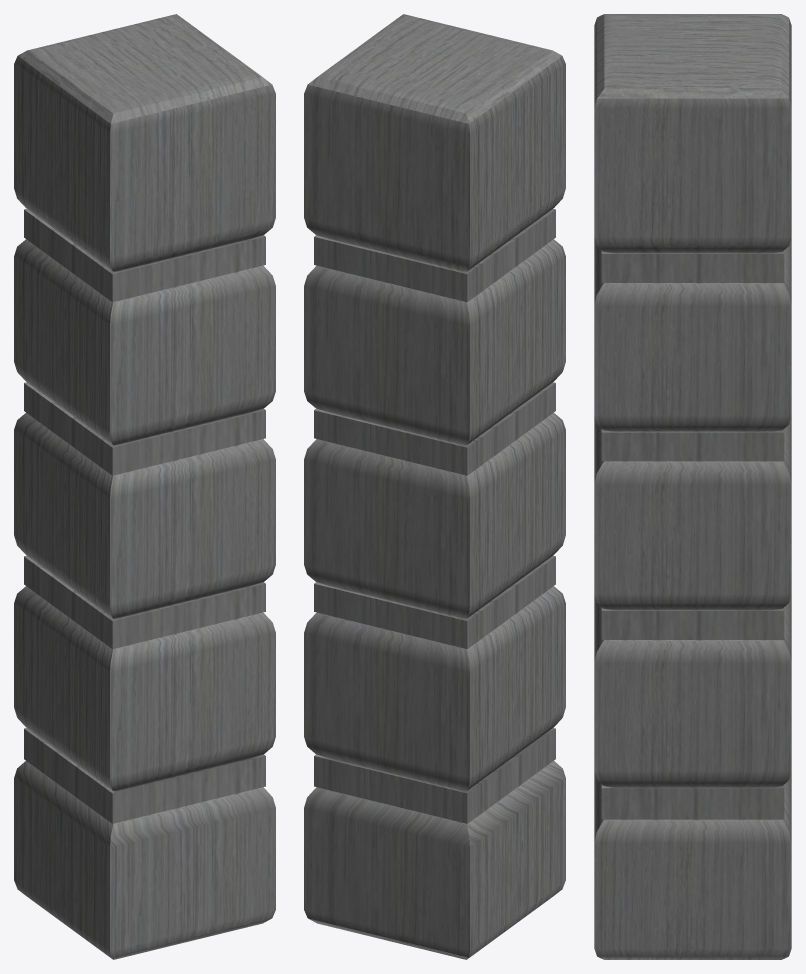
Rendered from Brick_Wall_Squar_Clg.fbx.
The picture shows the model from 3 angles, left to right: view 1: azimuth 30°, elevation 25°; view 2: azimuth 150°, elevation 25°; view 3: azimuth 270°, elevation 25°; orthographic projection. The views are drawn at different scales.
Parts seen in each view (by area): view 1: pCube4; view 2: pCube4; view 3: pCube4.
Part boxes in pixels (left/top/right/bottom): pCube4: left=14, top=14, right=275, bottom=959; pCube4: left=304, top=14, right=565, bottom=959; pCube4: left=594, top=14, right=791, bottom=959.
Size of the model in its own units: 5 by 24.5 by 5.
